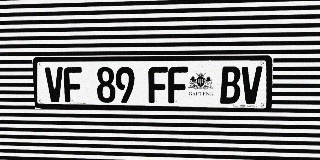8: (96, 67, 116, 103)
9: (116, 67, 135, 103)
B: (220, 66, 241, 104)
F: (168, 66, 188, 103), (148, 67, 168, 103), (63, 67, 83, 102)
V: (241, 66, 262, 104), (45, 67, 64, 102)
